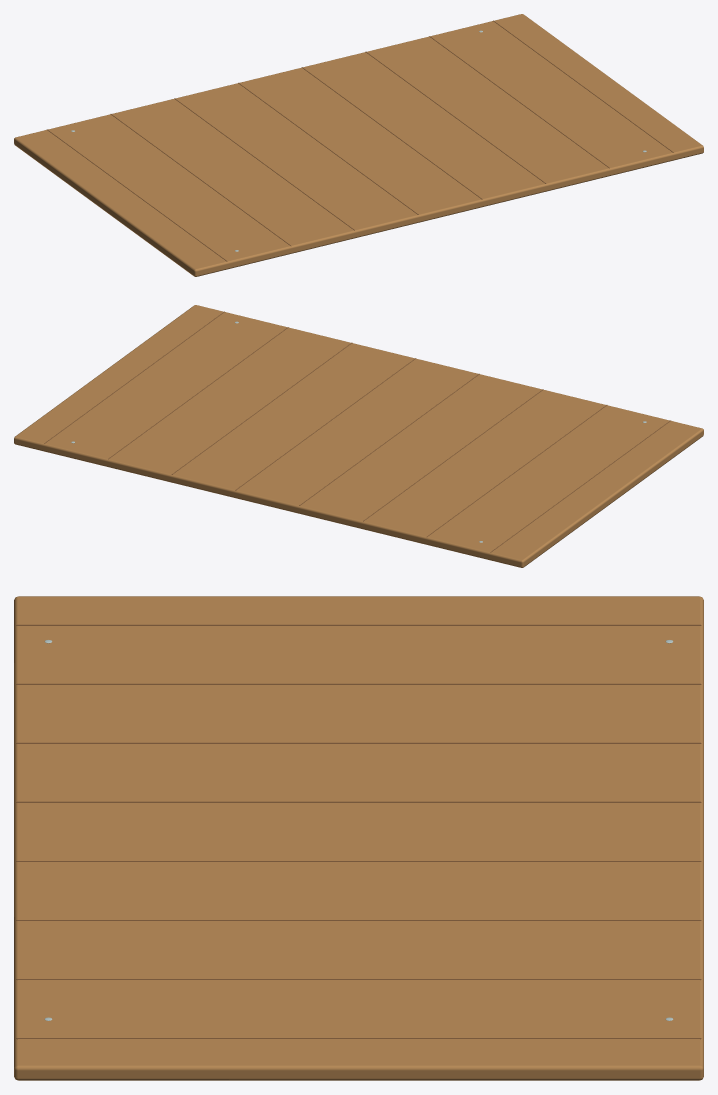
The model's file is dishwasher-exit-board-light.glb.
The picture shows the model from 3 angles, top to bottom: view 1: azimuth 30°, elevation 25°; view 2: azimuth 150°, elevation 25°; view 3: azimuth 270°, elevation 25°; orthographic projection. The views are drawn at different scales.
Visible parts, largest first — view 1: wood, edge; view 2: wood, edge; view 3: wood, edge.
Part boxes in pixels (bbox=[...]): wood: bbox=[14, 14, 703, 276]; edge: bbox=[46, 20, 673, 261]; wood: bbox=[14, 305, 703, 567]; edge: bbox=[44, 311, 671, 552]; wood: bbox=[14, 596, 703, 1080]; edge: bbox=[16, 624, 701, 1039].
Bounding box in the file's own units: 10 × 0.161 × 6.18.
